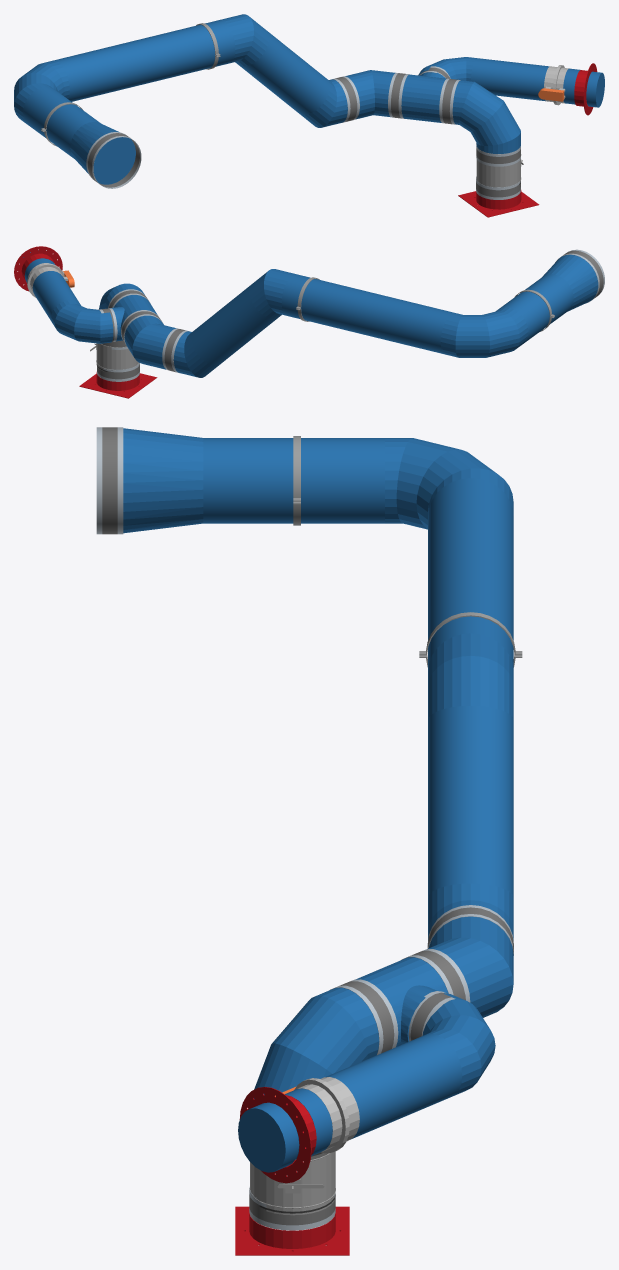
File: Phase20 (2).fbx
The picture shows the model from 3 angles, top to bottom: view 1: azimuth 30°, elevation 25°; view 2: azimuth 150°, elevation 25°; view 3: azimuth 270°, elevation 25°; orthographic projection. The views are drawn at different scales.
Visible parts, largest first — view 1: Воздуховод круглого сечения:CPS_Оцинковка_Врезки_ГОСТ 14918- (×5), Сталь (×3), CPS_Отвод_Круглый4:Стандарт 2:662571, CPS_Переходник_Круглый_1:Стандарт 2:663739, VEZA_Гибкий рукав (×6), VEZA_Металл_Сталь_Оцинкованная (×6), CPS_Тройник_Круглый1:Стандарт 2:664703, CPS_Переходник_Круглый_2:Стандарт:659134, CPS_фланец, Оцинкованная сталь, CPS_Отвод_Круглый1:Стандарт 2:657961, Фланец (+3 smaller); view 2: Воздуховод круглого сечения:CPS_Оцинковка_Врезки_ГОСТ 14918- (×4), Сталь (×3), CPS_Отвод_Круглый1:Стандарт 2:657961, CPS_Переходник_Круглый_2:Стандарт:659134, CPS_Переходник_Круглый_1:Стандарт 2:663739, CPS_фланец, VEZA_Гибкий рукав (×3), Оцинкованная сталь, Фланец, VEZA_Металл_Сталь_Оцинкованная (×3), CPS_Тройник_Круглый1:Стандарт 2:664703, BIMLIB_Сталь_Бастион (+1 smaller); view 3: Воздуховод круглого сечения:CPS_Оцинковка_Врезки_ГОСТ 14918- (×5), Сталь (×3), CPS_Отвод_Круглый4:Стандарт 2:662571, CPS_Переходник_Круглый_1:Стандарт 2:663739, CPS_Переходник_Круглый_2:Стандарт:659134, CPS_фланец, CPS_Отвод_Круглый1:Стандарт 2:657961, Оцинкованная сталь, Воздуховод круглого сечения:CPS_Пластик круглый:557401, CPS_Тройник_Круглый1:Стандарт 2:664703, Фланец, BIMLIB_Сталь_Бастион (+2 smaller).
Part boxes in pixels (left/top/right/bottom): Воздуховод круглого сечения:CPS_Оцинковка_Врезки_ГОСТ 14918- (×5): left=23, top=20, right=580, bottom=158; Сталь (×3): left=14, top=14, right=347, bottom=127; CPS_Отвод_Круглый4:Стандарт 2:662571: left=452, top=80, right=520, bottom=153; CPS_Переходник_Круглый_1:Стандарт 2:663739: left=70, top=122, right=135, bottom=184; VEZA_Гибкий рукав (×6): left=88, top=73, right=520, bottom=197; VEZA_Металл_Сталь_Оцинкованная (×6): left=86, top=73, right=520, bottom=199; CPS_Тройник_Круглый1:Стандарт 2:664703: left=401, top=72, right=446, bottom=122; CPS_Переходник_Круглый_2:Стандарт:659134: left=345, top=70, right=395, bottom=119; CPS_фланец: left=458, top=190, right=539, bottom=217; Оцинкованная сталь: left=476, top=154, right=523, bottom=187; CPS_Отвод_Круглый1:Стандарт 2:657961: left=418, top=57, right=476, bottom=81; Фланец: left=574, top=63, right=597, bottom=115; Воздуховод круглого сечения:CPS_Оцинковка_Врезки_ГОСТ 14918- (×4): left=32, top=271, right=573, bottom=365; Сталь (×3): left=173, top=269, right=528, bottom=377; CPS_Отвод_Круглый1:Стандарт 2:657961: left=51, top=300, right=113, bottom=343; CPS_Переходник_Круглый_2:Стандарт:659134: left=124, top=315, right=176, bottom=369; CPS_Переходник_Круглый_1:Стандарт 2:663739: left=542, top=254, right=598, bottom=311; CPS_фланец: left=79, top=372, right=157, bottom=398; VEZA_Гибкий рукав (×3): left=97, top=250, right=603, bottom=379; Оцинкованная сталь: left=90, top=343, right=138, bottom=371; Фланец: left=14, top=246, right=62, bottom=291; VEZA_Металл_Сталь_Оцинкованная (×3): left=97, top=249, right=604, bottom=381; CPS_Тройник_Круглый1:Стандарт 2:664703: left=110, top=295, right=157, bottom=341; BIMLIB_Сталь_Бастион: left=27, top=263, right=67, bottom=297; Воздуховод круглого сечения:CPS_Оцинковка_Врезки_ГОСТ 14918- (×5): left=203, top=438, right=513, bottom=1158; Сталь (×3): left=385, top=438, right=513, bottom=940; CPS_Отвод_Круглый4:Стандарт 2:662571: left=254, top=987, right=379, bottom=1098; CPS_Переходник_Круглый_1:Стандарт 2:663739: left=123, top=428, right=203, bottom=533; CPS_Переходник_Круглый_2:Стандарт:659134: left=427, top=916, right=513, bottom=1017; CPS_фланец: left=235, top=1206, right=349, bottom=1255; CPS_Отвод_Круглый1:Стандарт 2:657961: left=422, top=993, right=495, bottom=1096; Оцинкованная сталь: left=250, top=1151, right=335, bottom=1215; Воздуховод круглого сечения:CPS_Пластик круглый:557401: left=238, top=1102, right=299, bottom=1172; CPS_Тройник_Круглый1:Стандарт 2:664703: left=355, top=957, right=448, bottom=1046; Фланец: left=239, top=1087, right=316, bottom=1183; BIMLIB_Сталь_Бастион: left=294, top=1077, right=359, bottom=1153.
Size of the model in its own units: 6529 by 2235 by 2288.
